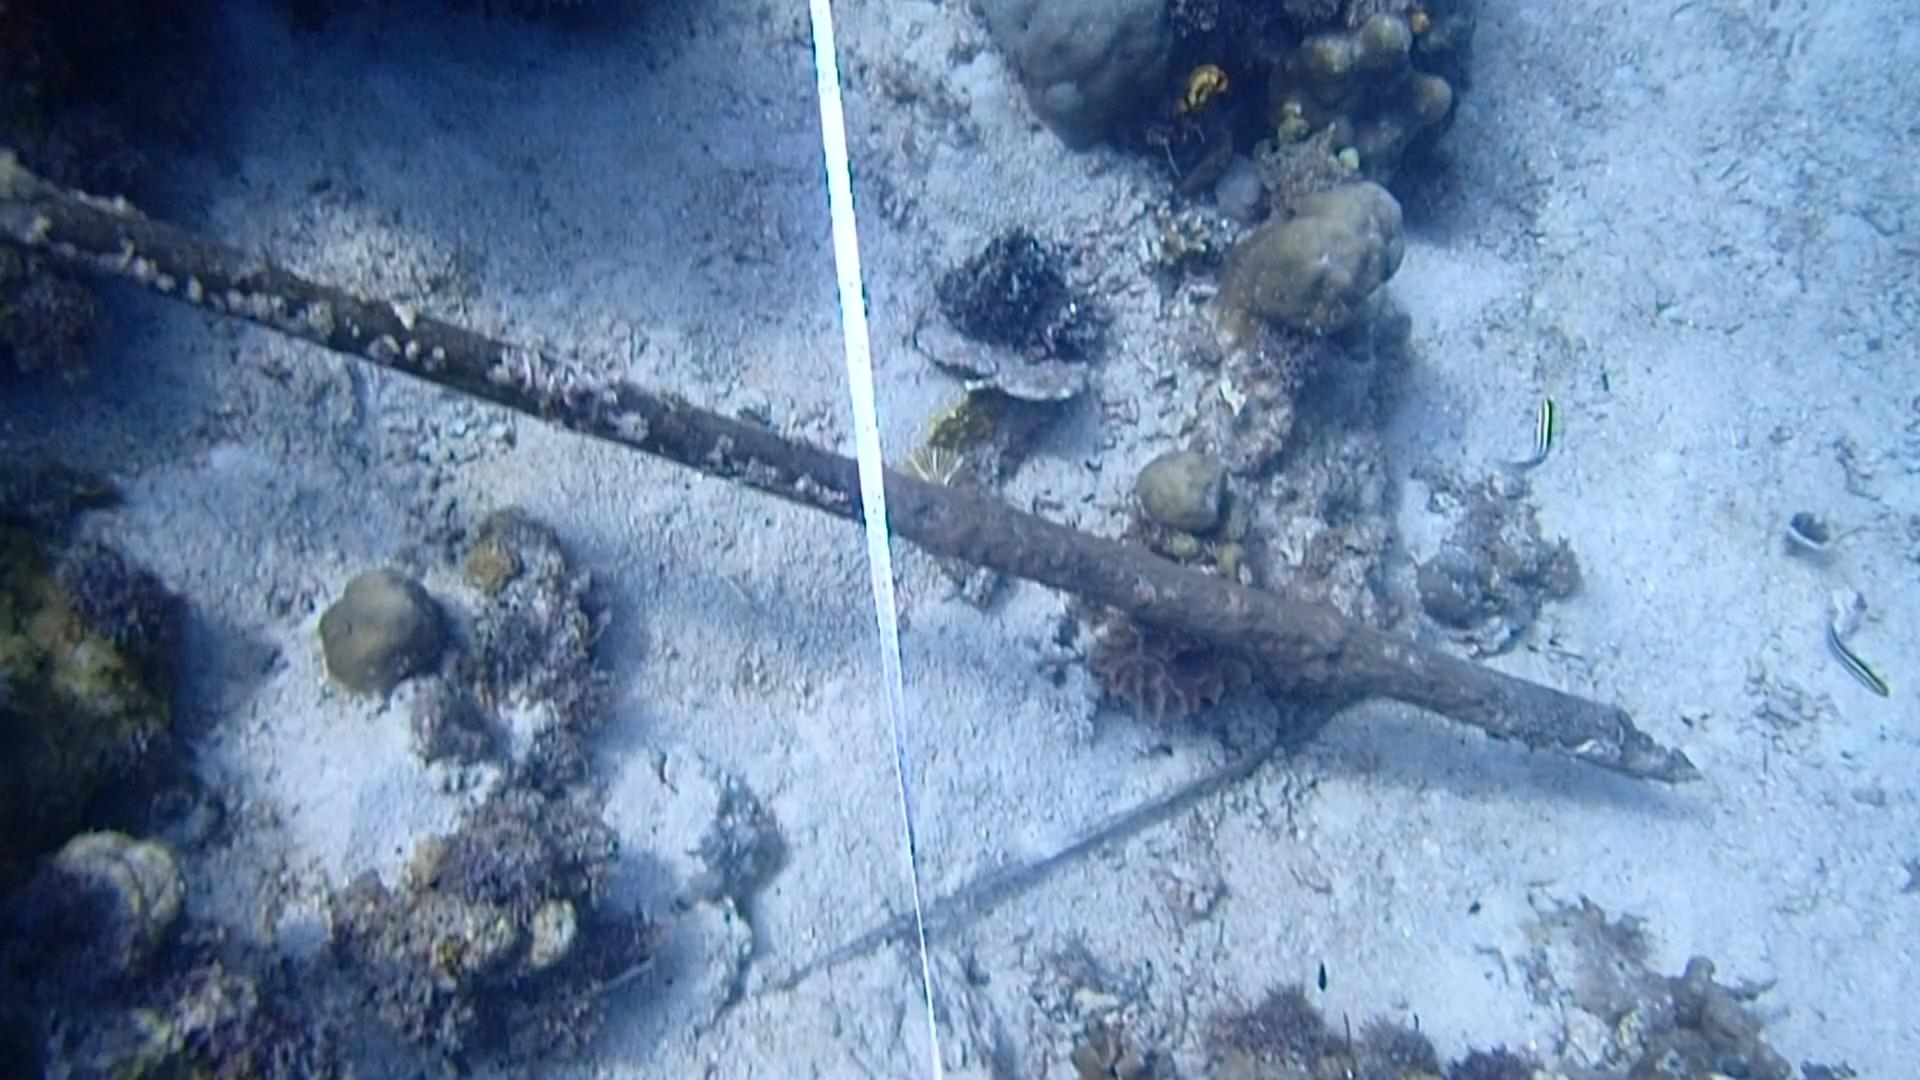Striped Fish: (1804, 609, 1899, 704), (1498, 390, 1571, 476)
